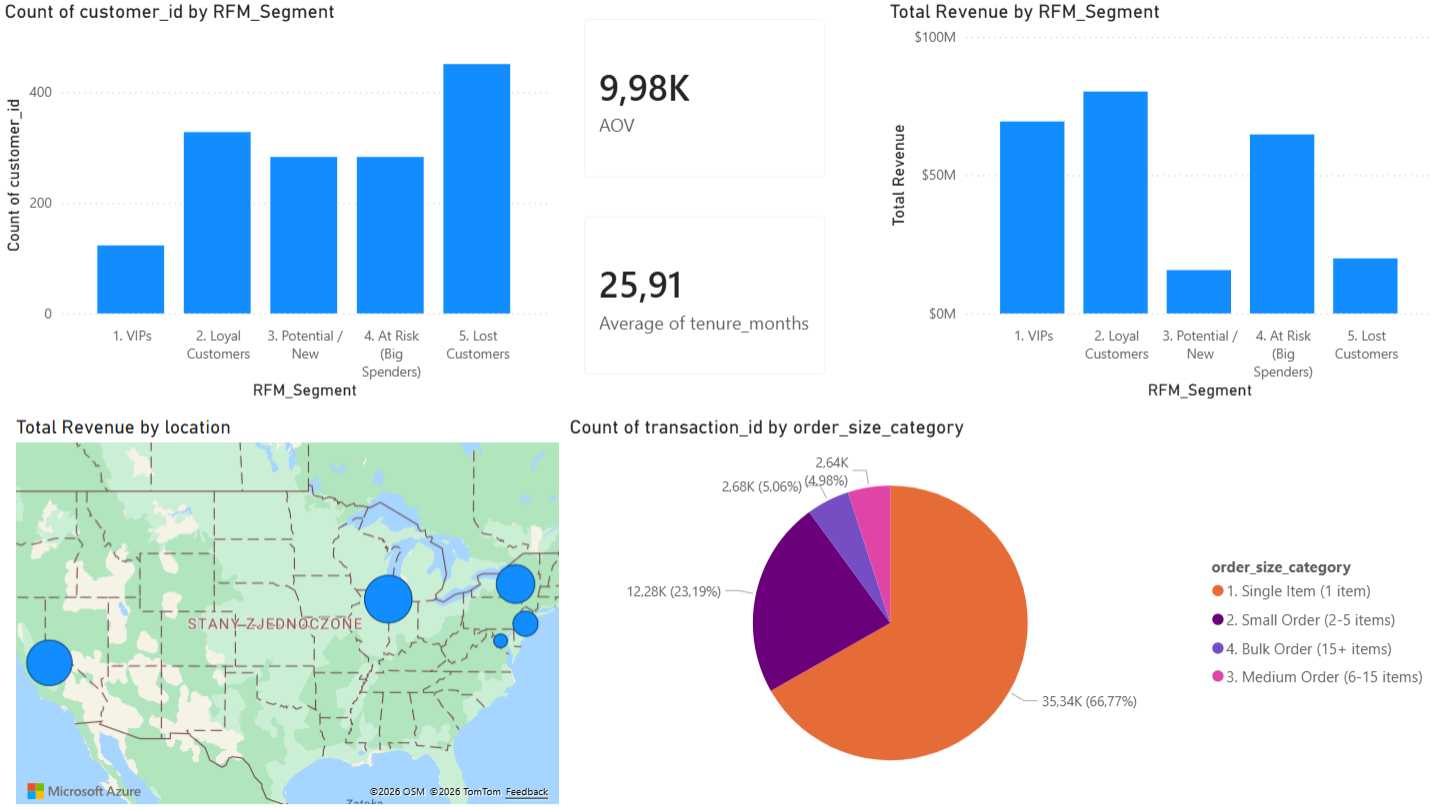

The dashboard page shown, as its layout file describes it:
{"tool":"powerbi","page":{"name":"Customer Insights","canvas":[1280,720],"ordinal":2},"visuals":[{"type":"columnChart","fields":{"Category":["vw_CustomerRFM.RFM_Segment"],"Y":["CountNonNull(vw_CustomerRFM.customer_id)"]},"box":[0,0,492.5,360],"z":0},{"type":"columnChart","fields":{"Category":["vw_CustomerRFM.RFM_Segment"],"Y":["transactions.Total Revenue"]},"box":[786.7,0,493.3,360],"z":1000},{"type":"azureMap","fields":{"Category":["customers.location"],"Size":["transactions.Total Revenue"]},"box":[10,370,493,350],"z":2000},{"type":"cardVisual","fields":{"Data":["transactions.AOV"]},"box":[503.3,0,248.3,175],"z":3000},{"type":"cardVisual","fields":{"Data":["Avg(customers.tenure_months)"]},"box":[503.3,175,248.3,175],"z":4000},{"type":"pieChart","fields":{"Category":["transactions.order_size_category"],"Y":["CountNonNull(transactions.transaction_id)"]},"box":[502.5,370,777.5,350],"z":5000}]}

Visuals, with their boxes in screenshot pixels (x1, y1, x2, y2), scaled from the page's 1280x720 canvas onto the 1436x809 screenshot:
columnChart - vw_CustomerRFM.RFM_Segment x CountNonNull(vw_CustomerRFM.customer_id): left=0, top=0, right=553, bottom=404
columnChart - vw_CustomerRFM.RFM_Segment x transactions.Total Revenue: left=883, top=0, right=1435, bottom=404
azureMap - customers.location x transactions.Total Revenue: left=11, top=416, right=564, bottom=808
cardVisual - transactions.AOV: left=565, top=0, right=843, bottom=197
cardVisual - Avg(customers.tenure_months): left=565, top=197, right=843, bottom=393
pieChart - transactions.order_size_category x CountNonNull(transactions.transaction_id): left=564, top=416, right=1435, bottom=808
